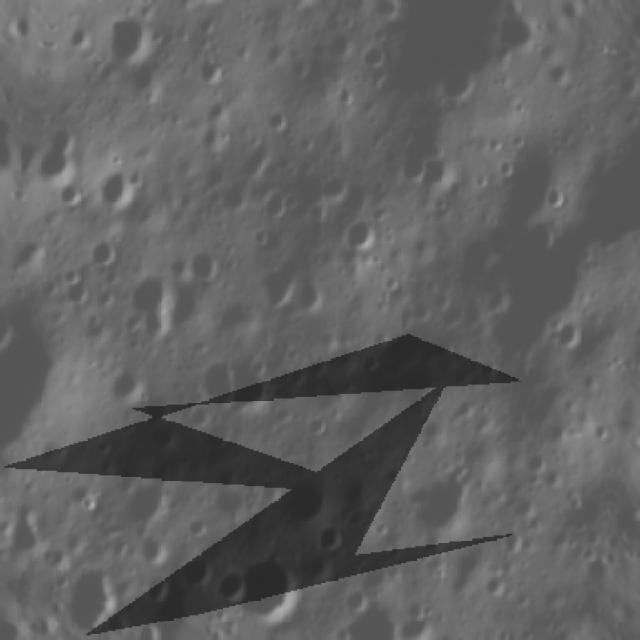crater: (225, 547, 310, 635), (96, 6, 164, 74), (118, 262, 178, 326), (89, 156, 148, 218), (185, 347, 240, 413), (423, 59, 488, 113), (252, 258, 300, 316), (103, 359, 155, 408), (339, 209, 390, 257), (286, 272, 332, 320), (126, 523, 172, 568), (212, 558, 251, 611), (414, 152, 458, 196), (548, 315, 590, 359), (308, 514, 350, 558), (183, 244, 225, 287), (79, 234, 124, 274), (188, 52, 228, 96), (389, 604, 436, 640), (51, 171, 88, 215), (178, 549, 218, 589), (144, 416, 185, 453), (159, 0, 244, 17), (353, 39, 392, 76), (300, 406, 338, 442), (261, 102, 296, 140), (138, 572, 174, 608), (517, 446, 554, 480), (541, 58, 577, 92), (534, 461, 571, 494), (495, 524, 530, 558), (607, 67, 640, 103), (178, 512, 216, 542), (476, 570, 510, 602), (413, 624, 478, 640), (510, 492, 541, 525), (543, 181, 572, 214)
